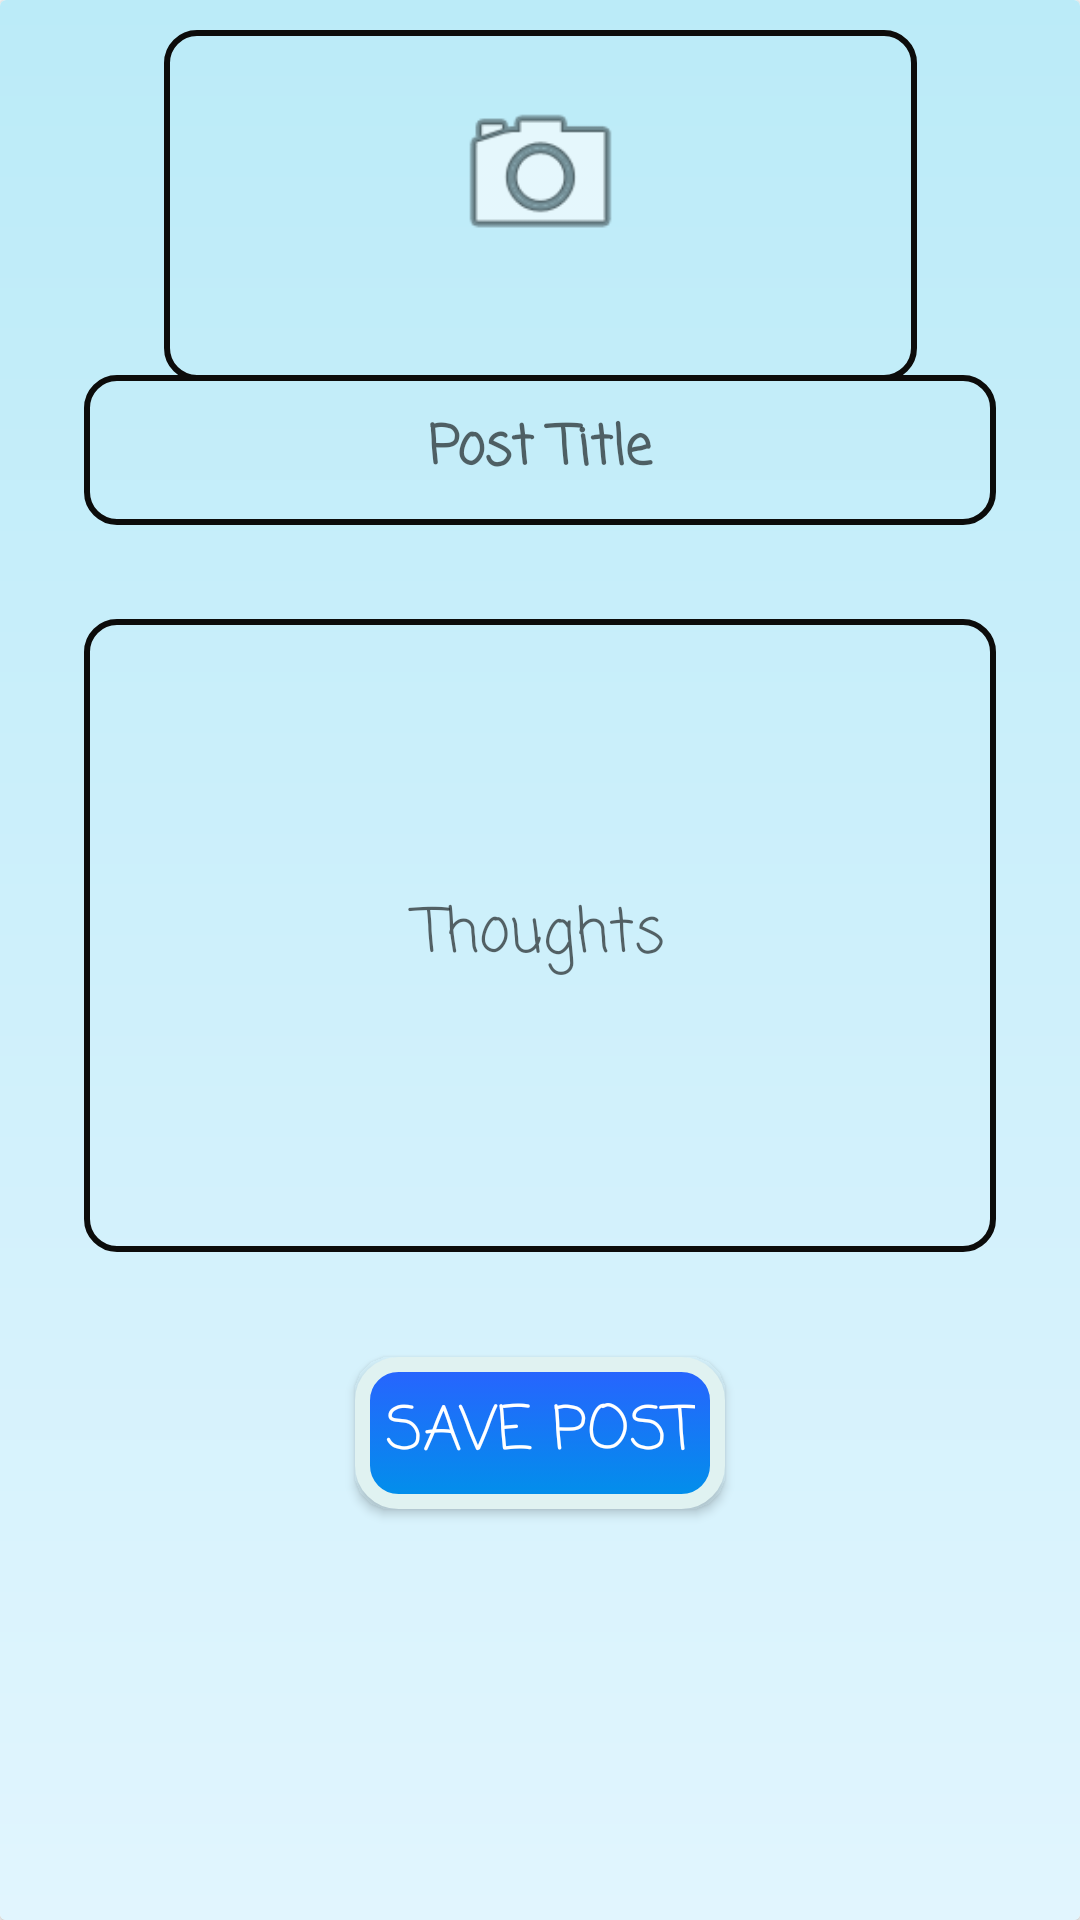

Icon bounding boxes for this 1080px x 1920px phone screenshot, format (x1, y1, x2, y2):
camera: (470, 115, 611, 228)
